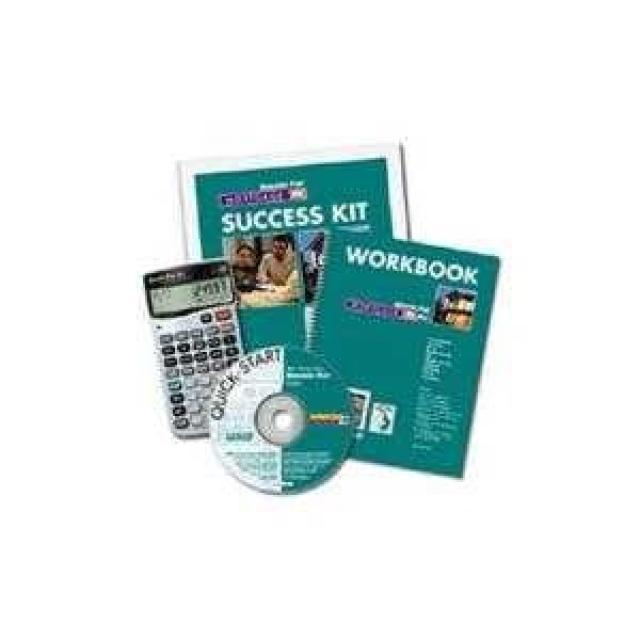Calculator: (145, 258, 239, 437)
